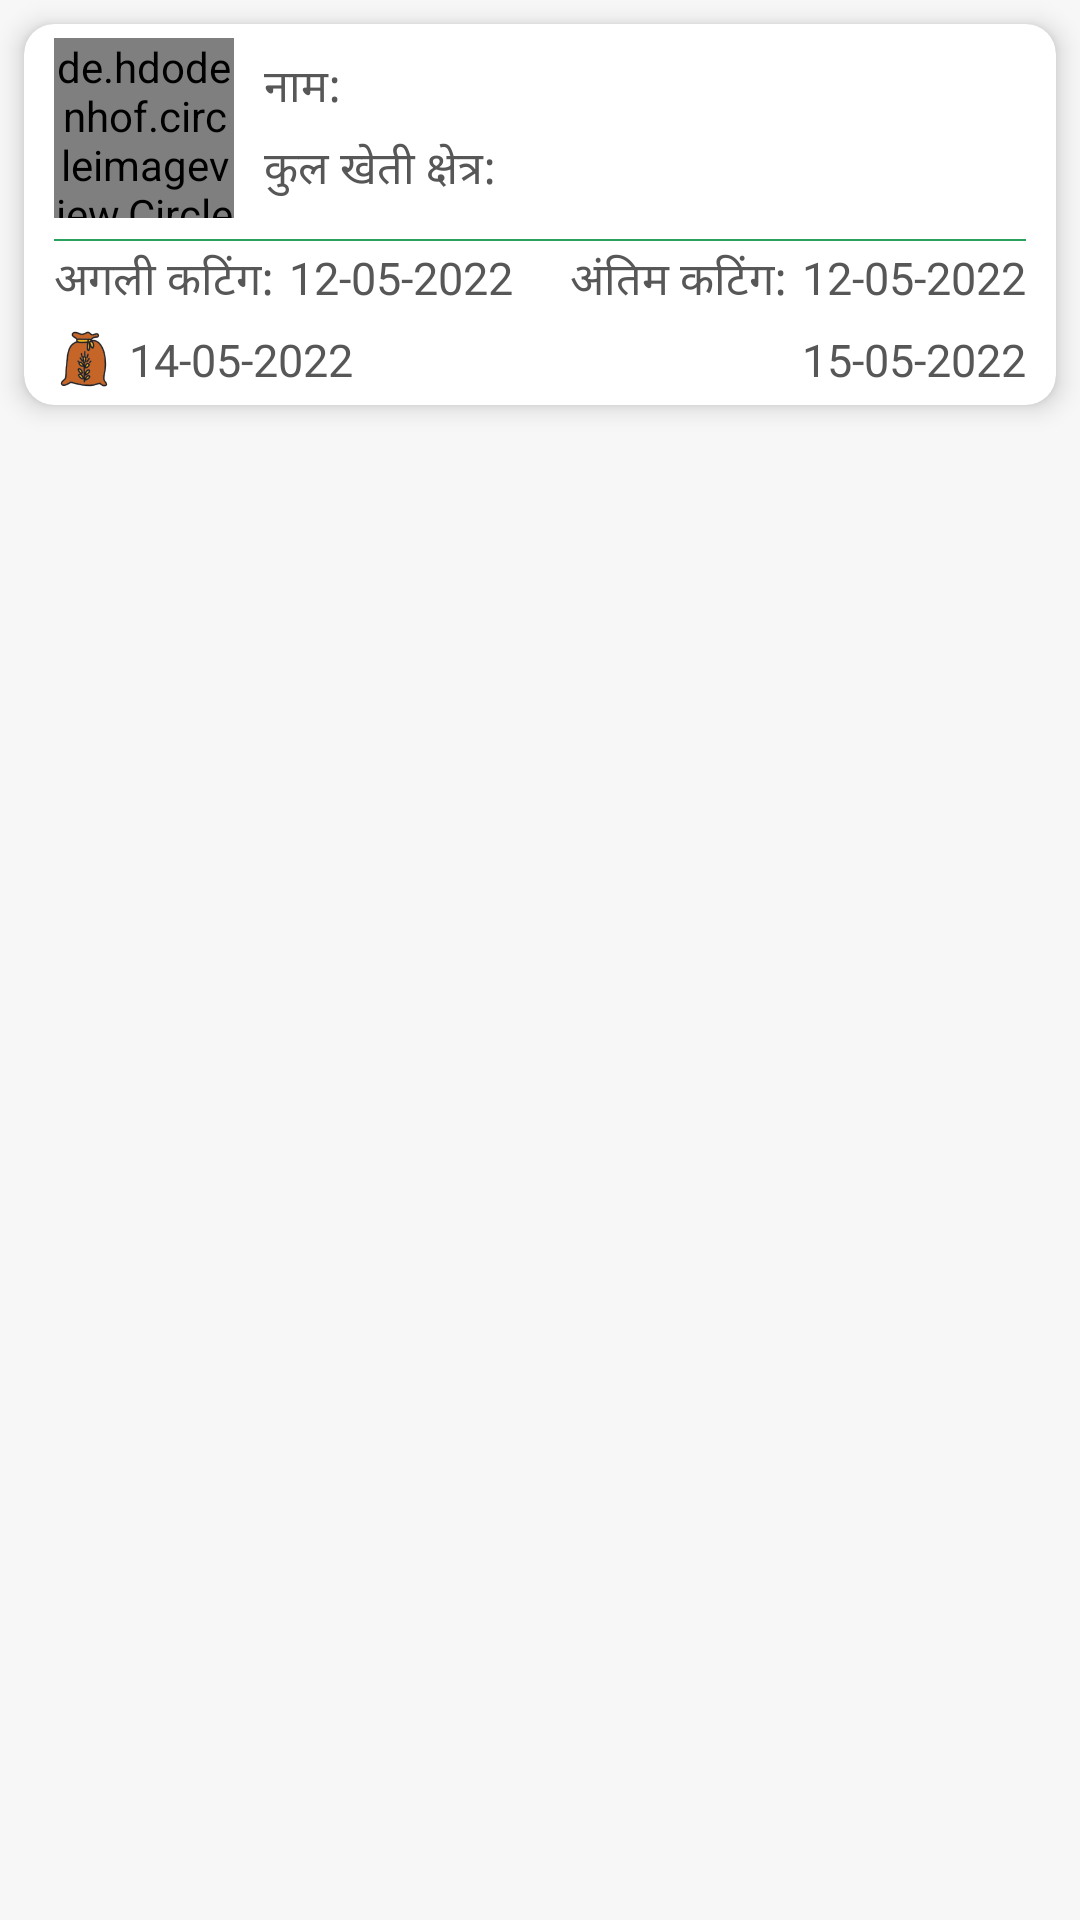

Screen size 1080×1920. Icon name, then its box in pixels as (x1, y1, x2, y2):
bag: (60, 331, 108, 387)
